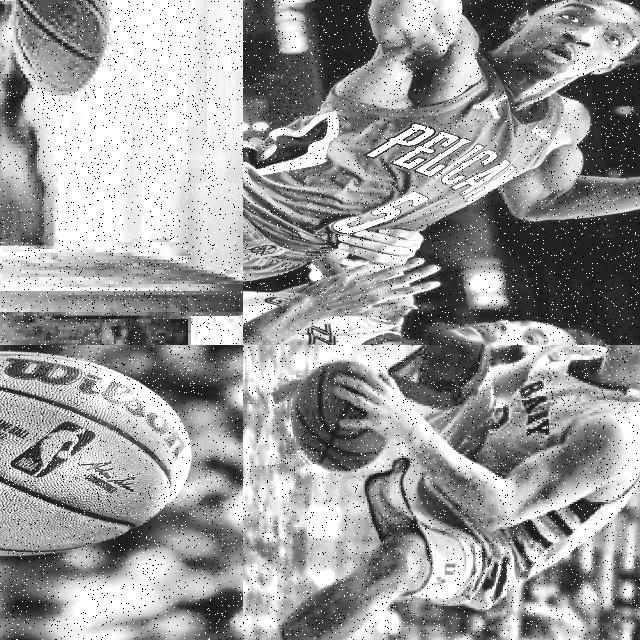Basketball: (0, 352, 190, 556), (293, 362, 384, 473), (12, 0, 106, 95)
